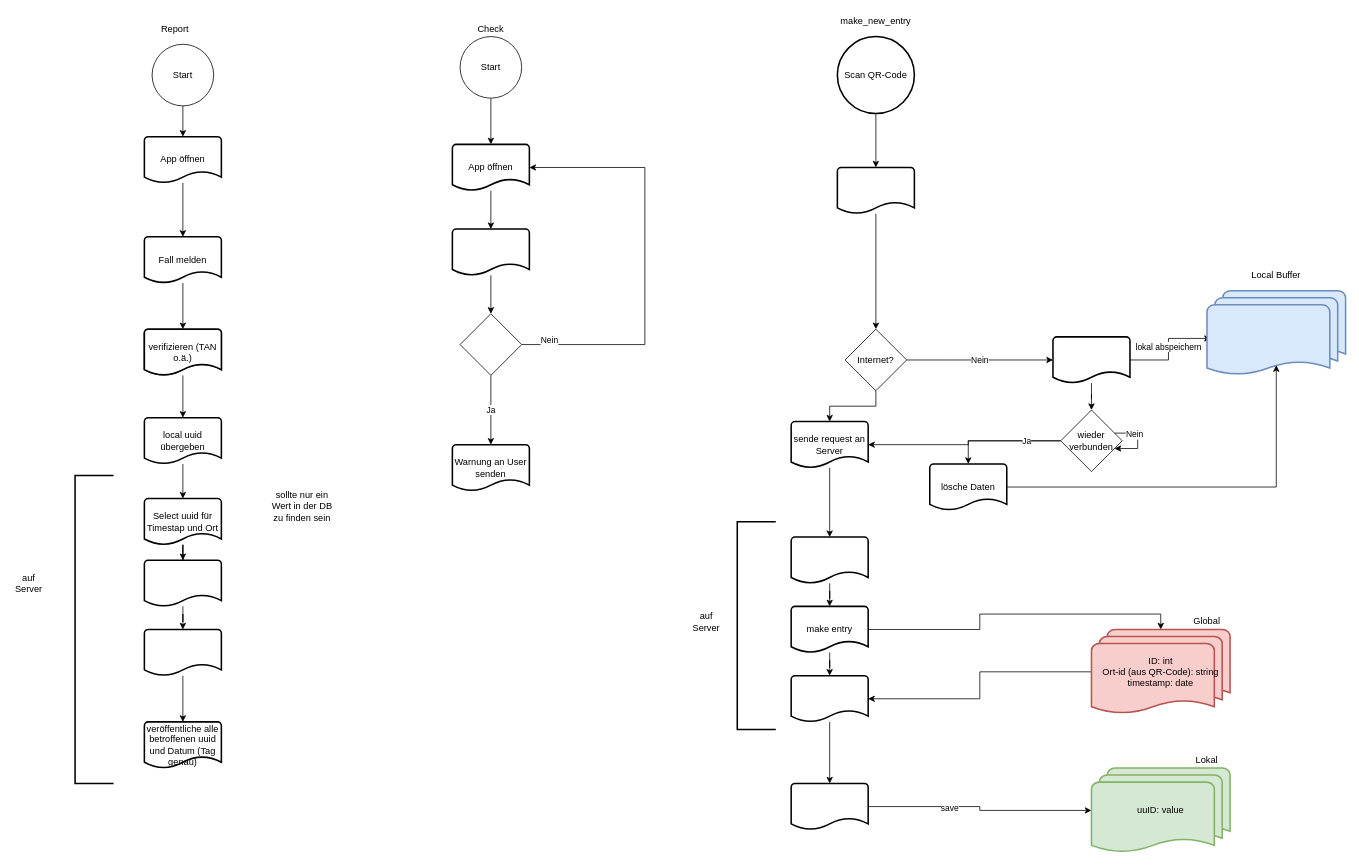
This 1359x866 diagram has some shape labels left out. The shapes that lost their labels are listed below. From the top down, each one's box as (x1, y1, x2, y2) in pixels, then its label:
(836, 166, 915, 214): QR-Code Scannen
(451, 228, 530, 276): Check public uuid
(459, 313, 522, 375): eigene uuid betroffen?
(1206, 290, 1346, 376): ID: NULL Ort-id (aus QR-Code): string timestamp: date
(1052, 336, 1130, 383): speichere ab
(790, 536, 869, 584): generate uuid
(143, 559, 222, 607): caluclate time range
(143, 628, 222, 676): Select all with matching timestamp and Ort
(790, 675, 869, 722): send response to client
(790, 782, 869, 830): save uuid
